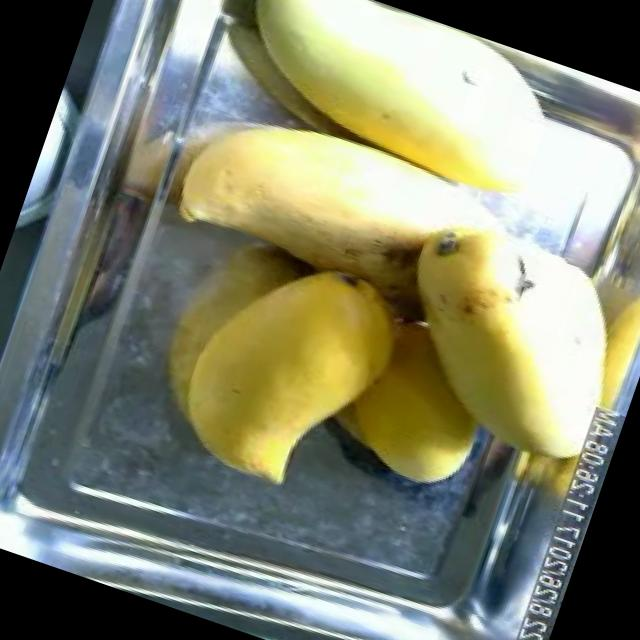fruit: (148, 223, 424, 523), (150, 88, 484, 328), (354, 209, 636, 480), (206, 0, 570, 198)
